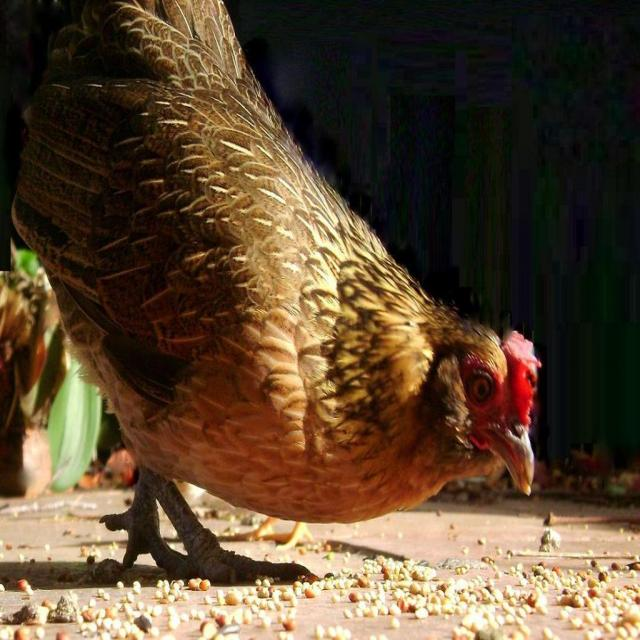Chicken: (0, 0, 535, 582)
